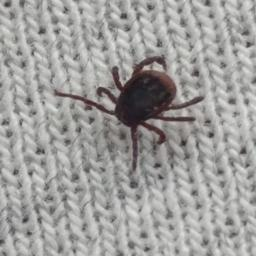Rhipicephalus sanguineus: (55, 54, 203, 171)
